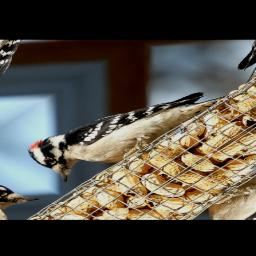Woodpecker: (13, 63, 230, 192)
